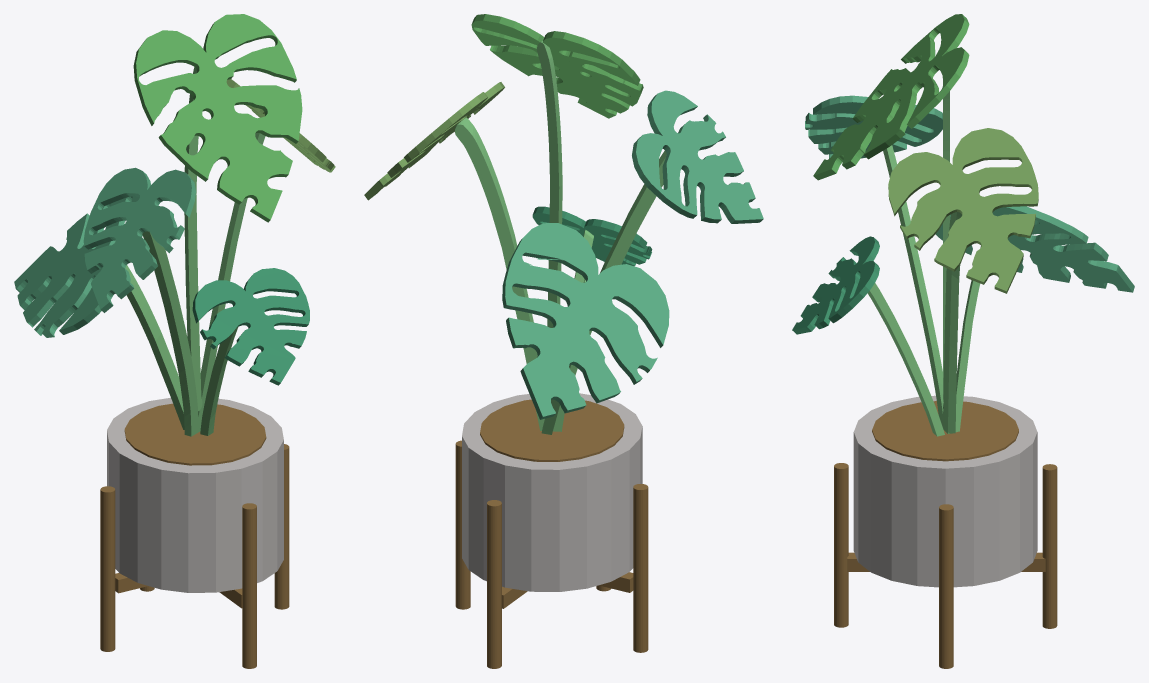
Rendered from monsterra.glb.
3 views of the same model, side by side, from view 1: azimuth 30°, elevation 25°; view 2: azimuth 150°, elevation 25°; view 3: azimuth 270°, elevation 25° (orthographic). The views are drawn at different scales.
Parts seen in each view (by area): view 1: Mesh_Mesh_head_geo.001_lambert2SG.001; view 2: Mesh_Mesh_head_geo.001_lambert2SG.001; view 3: Mesh_Mesh_head_geo.001_lambert2SG.001.
Boxes of the visible parts, x1,y1,x2,y2 form: Mesh_Mesh_head_geo.001_lambert2SG.001: (14, 14, 335, 668); Mesh_Mesh_head_geo.001_lambert2SG.001: (364, 14, 763, 668); Mesh_Mesh_head_geo.001_lambert2SG.001: (792, 14, 1134, 668).
Size of the model in its own units: 31.37 by 58.6 by 30.72.
